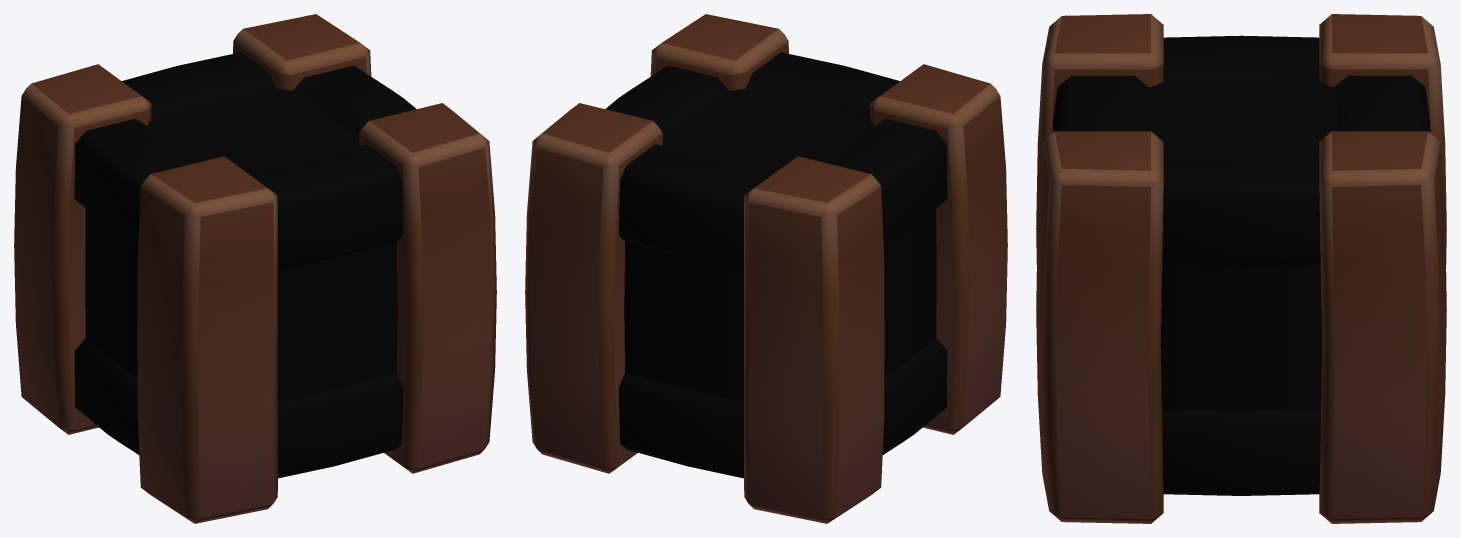
File: block_box.fbx
3 renders of one model, left to right at view 1: azimuth 30°, elevation 25°; view 2: azimuth 150°, elevation 25°; view 3: azimuth 270°, elevation 25°, orthographic. The views are drawn at different scales.
Visible parts, largest first — view 1: box_wooden_4_LOD0; view 2: box_wooden_4_LOD0; view 3: box_wooden_4_LOD0.
Part boxes in pixels (<box>): box_wooden_4_LOD0: <box>14,14,496,523</box>; box_wooden_4_LOD0: <box>525,14,1007,523</box>; box_wooden_4_LOD0: <box>1036,14,1446,523</box>.
Size of the model in its own units: 196 by 187 by 197.
